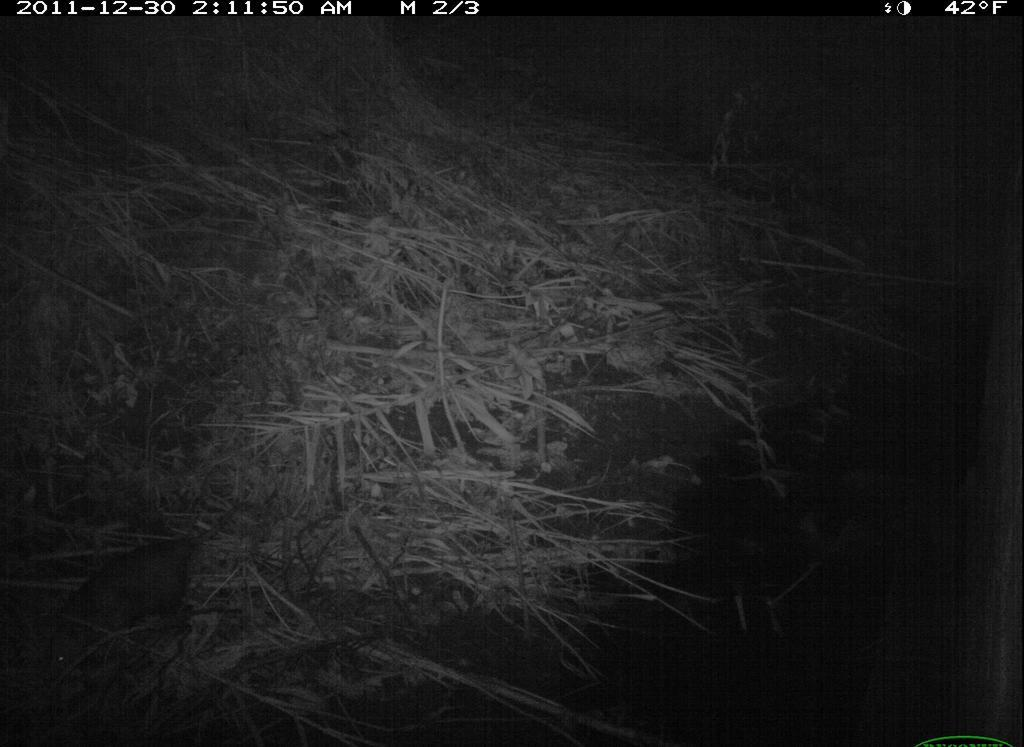opossum: (35, 519, 223, 680)
